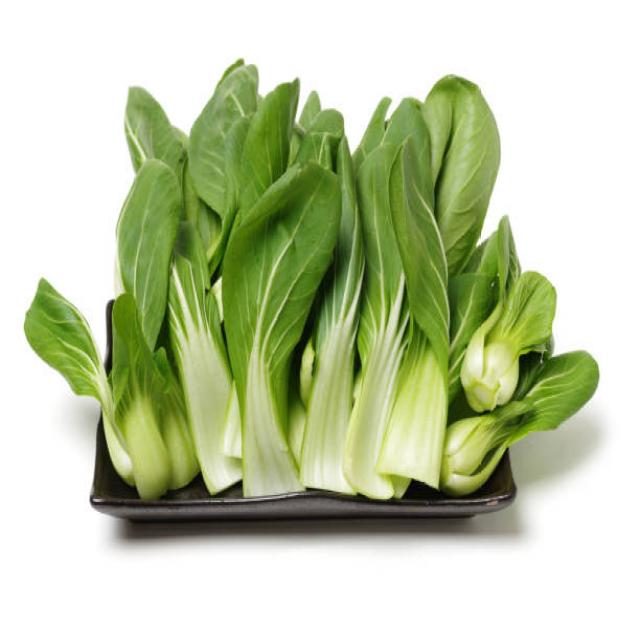bok choy: (178, 111, 311, 497), (355, 114, 468, 490), (481, 240, 548, 397)
